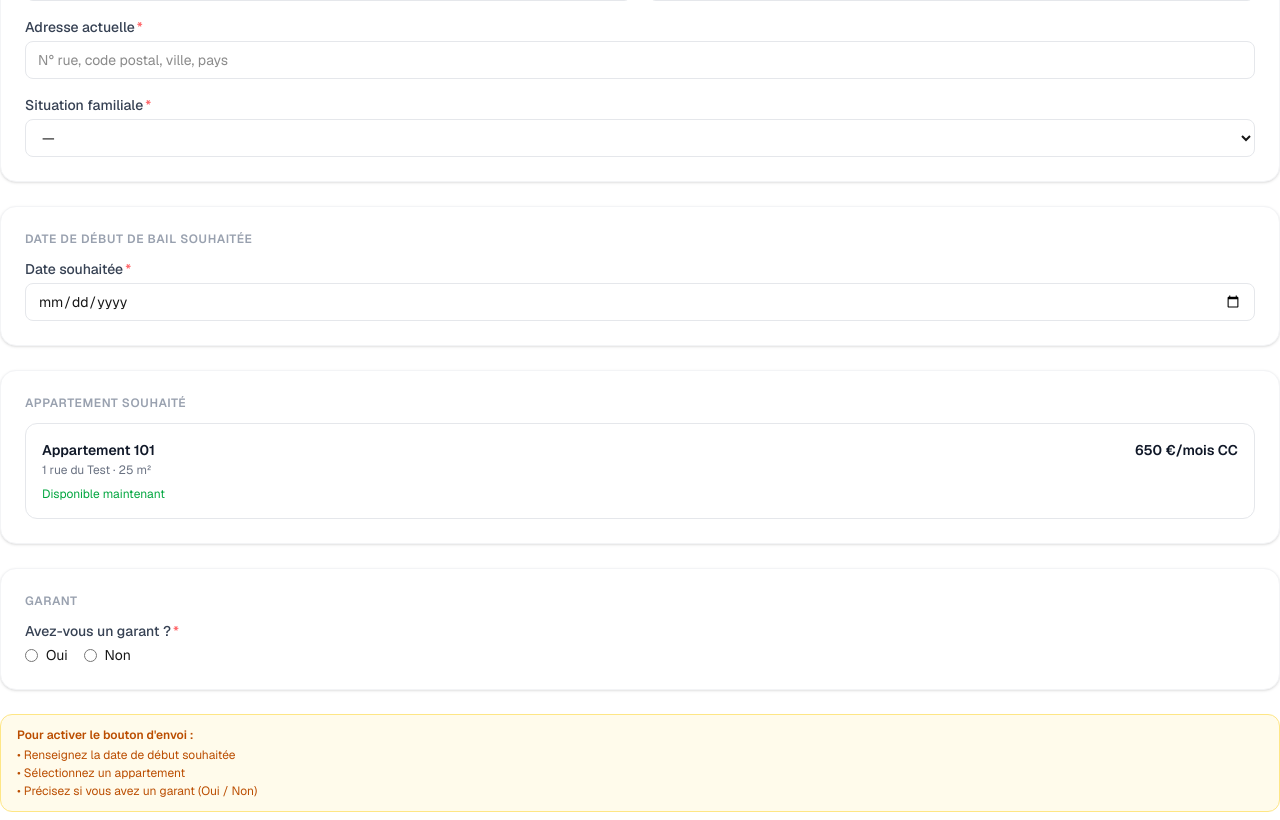
Scenario: CandidateForm — section garant › affiche les champs garant si 'Oui' sélectionné
This screenshot has width=1280, height=820.
(page scrolled)
Click the radio button labelled "Oui". click: click(32, 655)
box: [25,648,38,662]
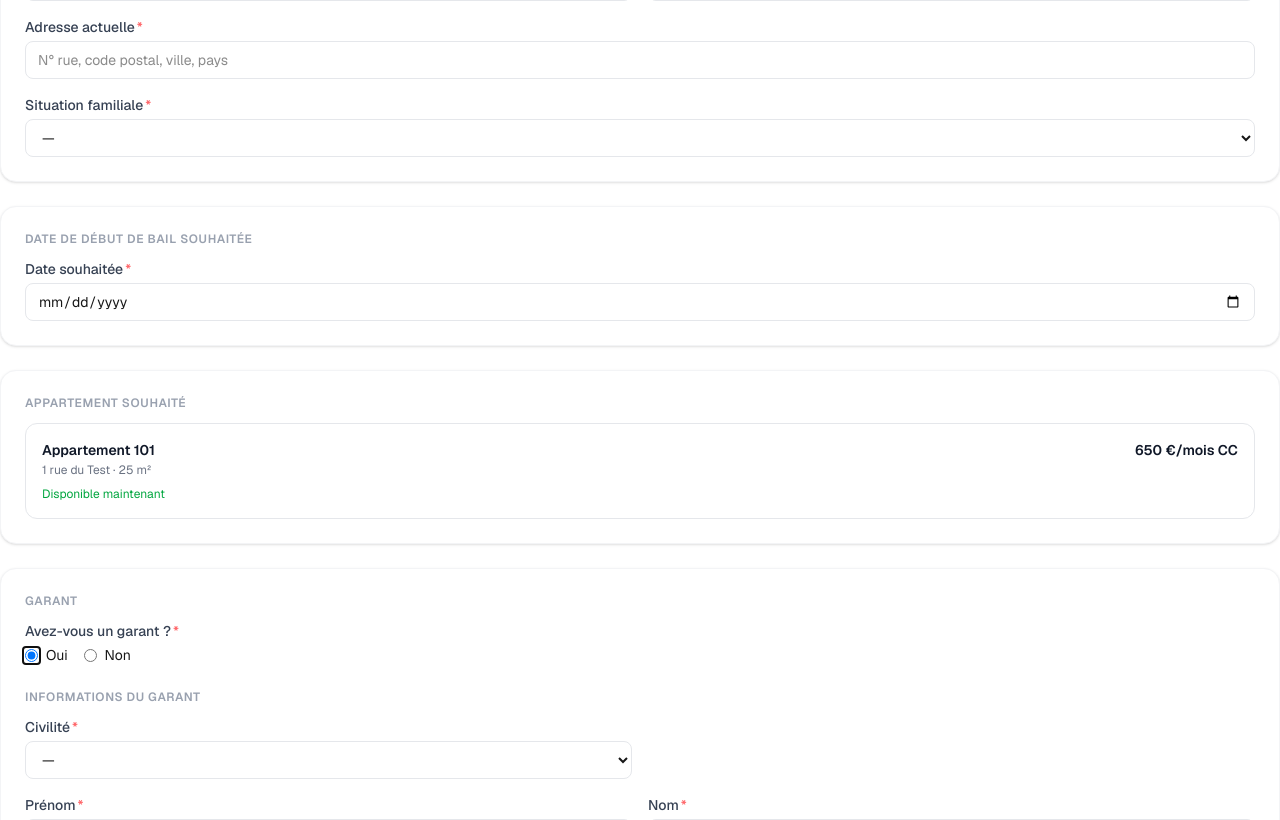
Result: the heading "Informations du garant" is shown at [25,689,201,705]
